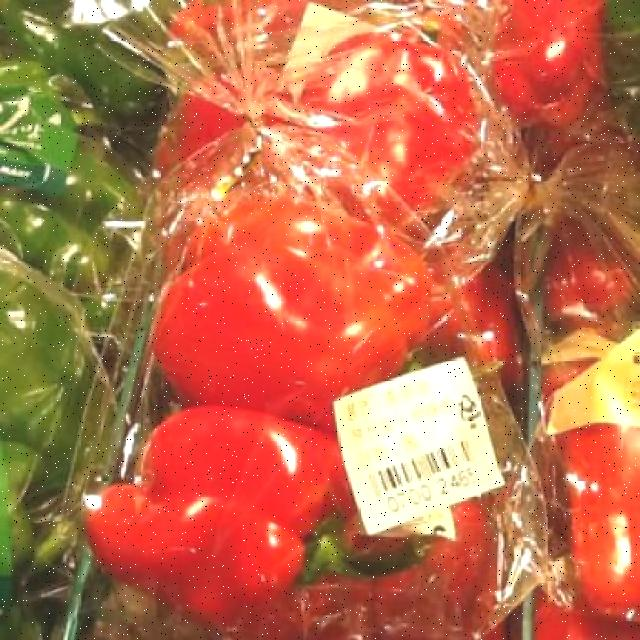Bell Pepper: (106, 77, 546, 617)
